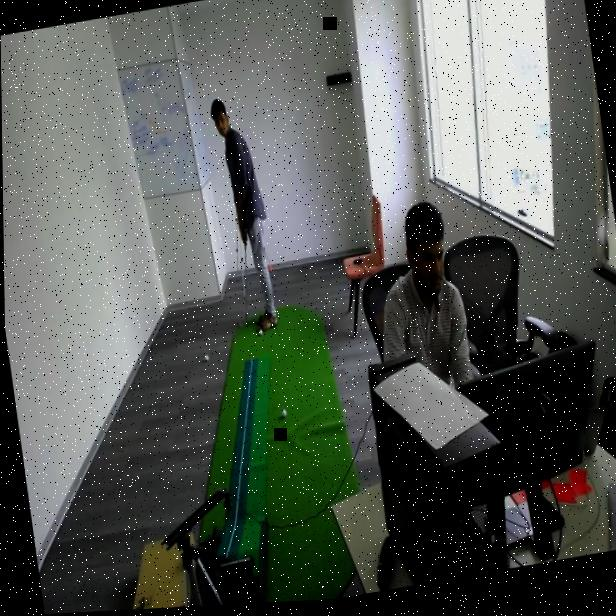ClubHead: (231, 308, 251, 334)
GolfBall: (278, 407, 288, 423), (201, 352, 211, 366), (256, 328, 264, 342)
